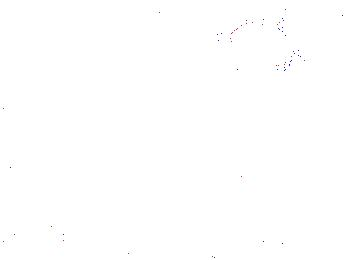moon jellyfish: (215, 19, 296, 86), (108, 78, 192, 132), (281, 1, 346, 63), (135, 1, 196, 64), (49, 1, 139, 29)
